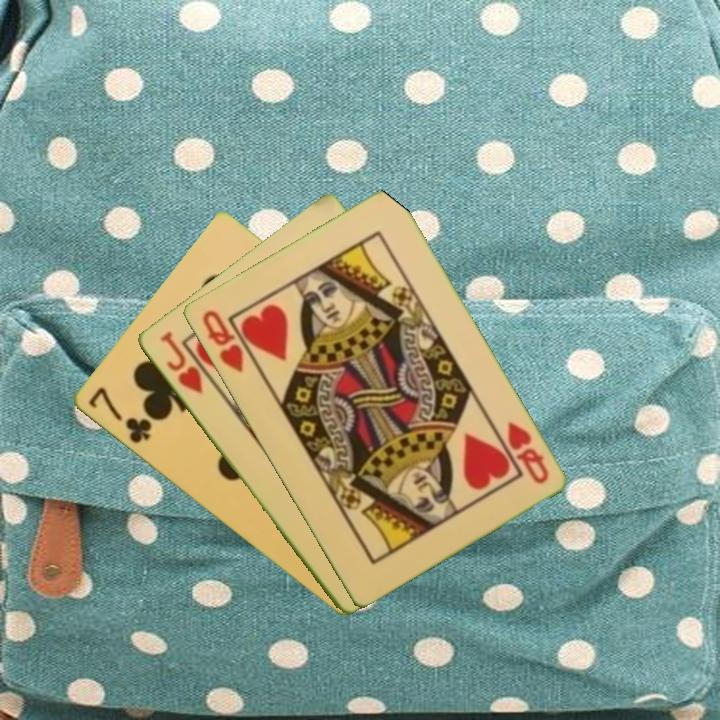7c: (84, 383, 154, 447)
Jh: (156, 327, 206, 397)
Qh: (198, 306, 246, 375), (503, 418, 551, 487)
